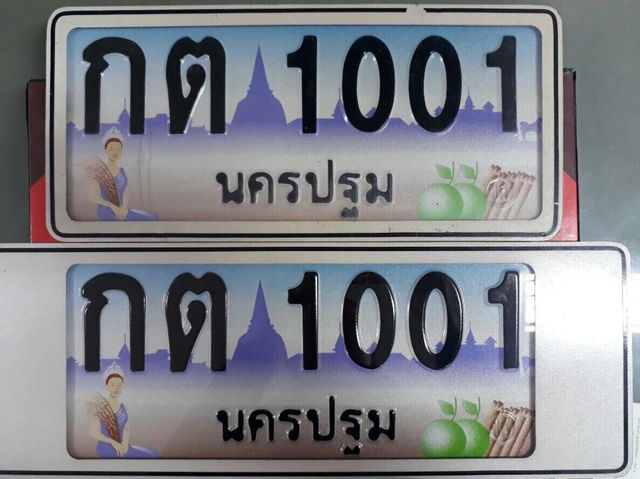Non-Bangkok: (202, 162, 400, 216)
